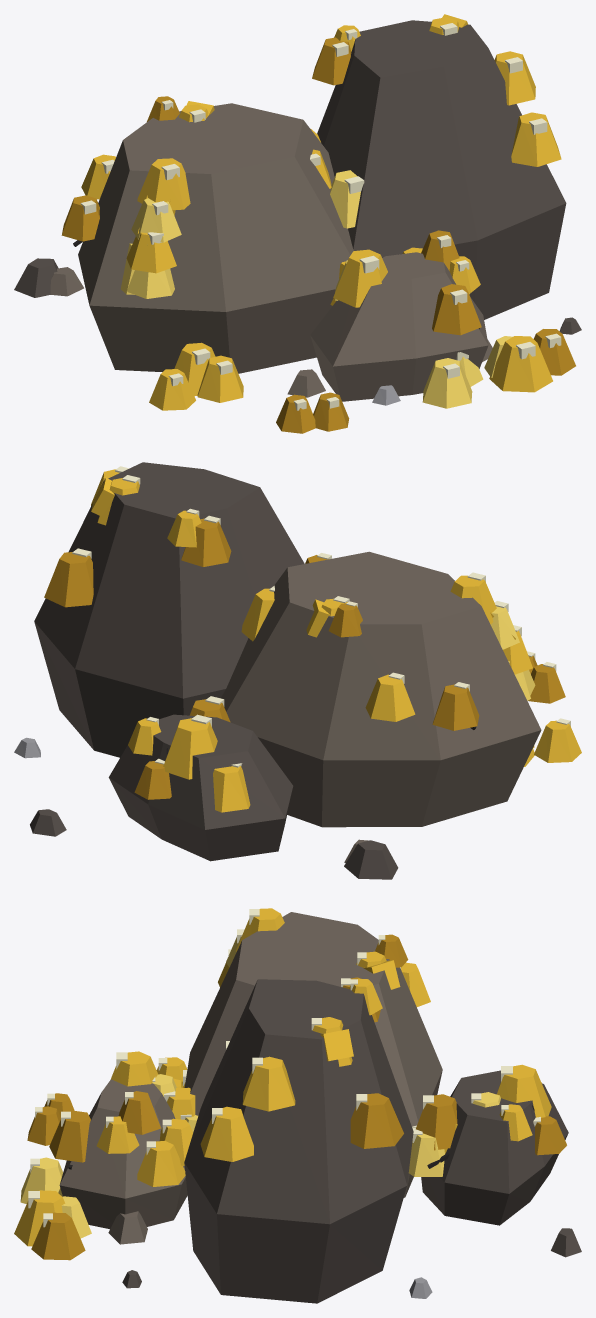
The model's file is gold_2.obj.
3 renders of one model, top to bottom at view 1: azimuth 30°, elevation 25°; view 2: azimuth 150°, elevation 25°; view 3: azimuth 270°, elevation 25°, orthographic.
Parts seen in each view (by area): view 1: Boulder, Nugget, Nugget.Shine, Pebble; view 2: Boulder, Nugget, Pebble, Nugget.Shine, Vein; view 3: Boulder, Nugget, Nugget.Shine, Pebble, Vein.
Boxes of the visible parts, left/top/right/bottom form: Boulder: left=78, top=20, right=566, bottom=401; Nugget: left=61, top=17, right=575, bottom=433; Nugget.Shine: left=80, top=23, right=561, bottom=410; Pebble: left=14, top=258, right=581, bottom=405; Boulder: left=34, top=462, right=541, bottom=861; Nugget: left=44, top=469, right=581, bottom=812; Pebble: left=14, top=737, right=398, bottom=879; Nugget.Shine: left=72, top=466, right=570, bottom=767; Vein: left=91, top=478, right=515, bottom=639; Boulder: left=59, top=912, right=568, bottom=1303; Nugget: left=14, top=908, right=566, bottom=1260; Nugget.Shine: left=28, top=909, right=540, bottom=1227; Pebble: left=108, top=1211, right=581, bottom=1298; Vein: left=320, top=960, right=400, bottom=1061.
Bounding box in the file's own units: 2.58 × 1.29 × 2.66.
